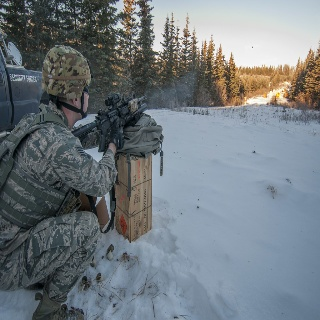rifle: (69, 92, 153, 155)
